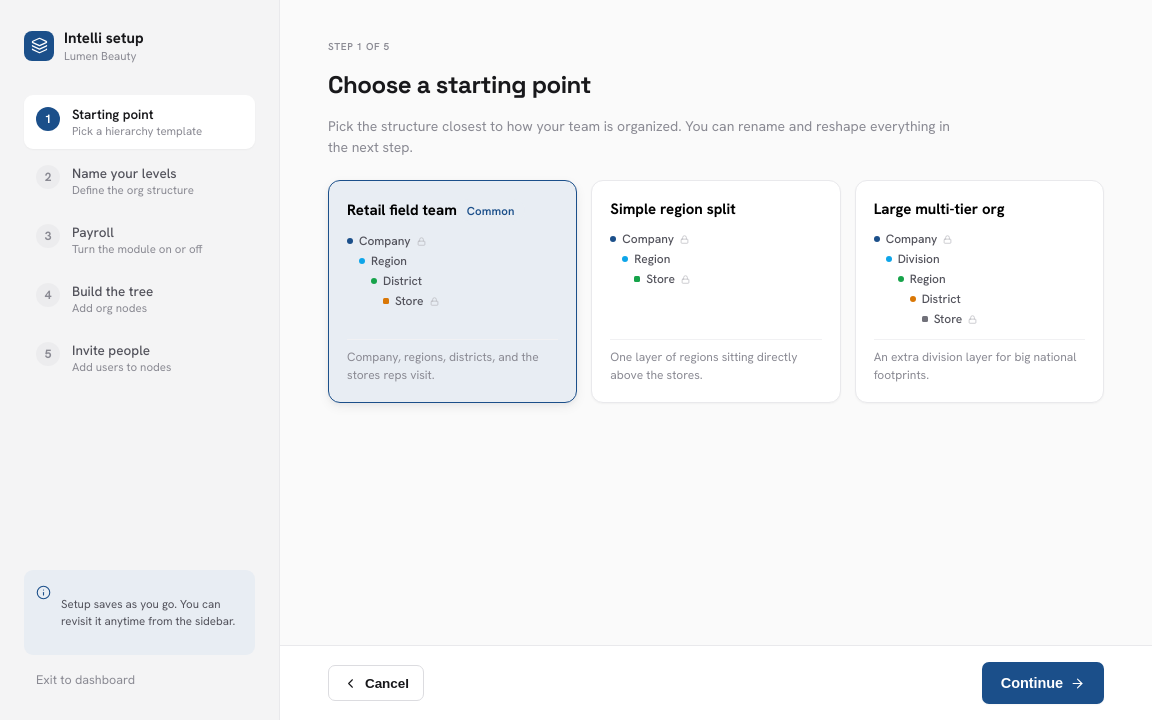
SetupWizard › on a populated company, step 2 seeds the real saved levels and hides add/remove
Check: the heading "Choose a starting point" is shown, box [328,69,591,100]
Click the button "Continue": [1043, 683] box [982,662,1104,704]
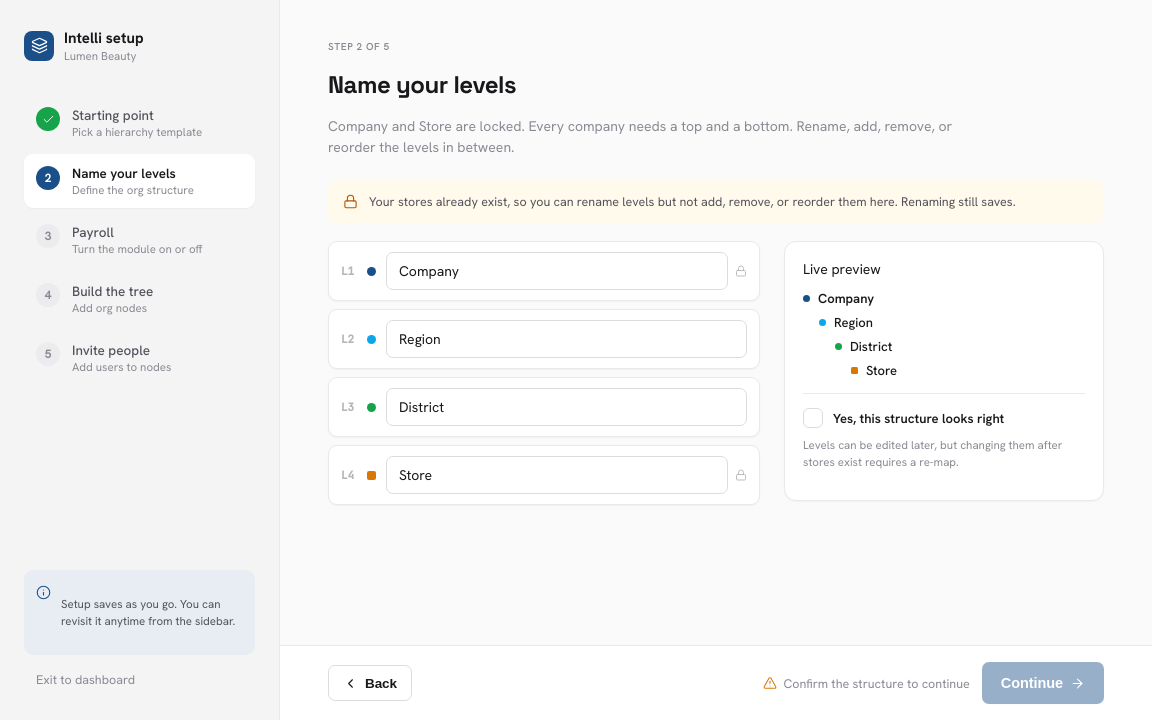
Check: the heading "Name your levels" is shown, box [328,69,516,100]
Check: the text "Your stores already exist" is shown, box [369,193,1016,210]
